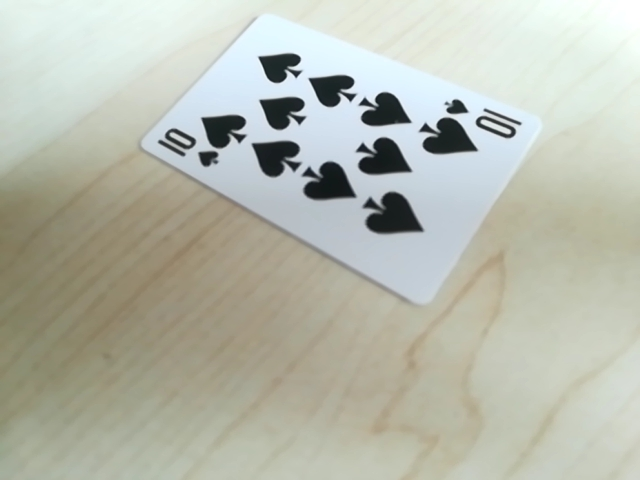ht 10: (438, 97, 532, 141), (152, 130, 220, 173)
